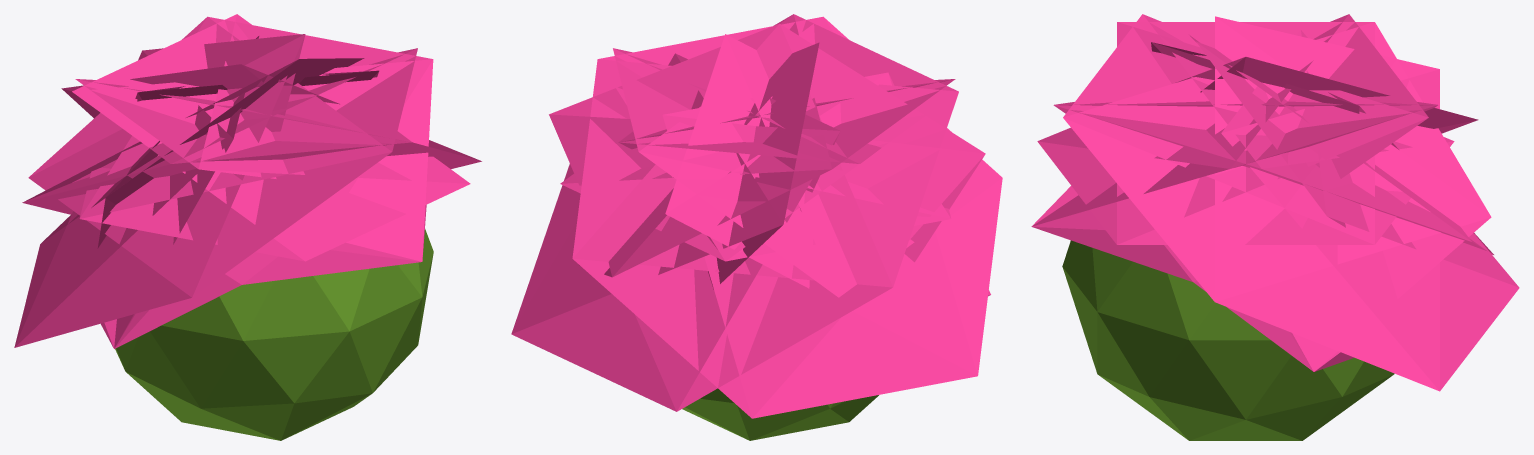
File: cactusflower.fbx
The picture shows the model from 3 angles, left to right: view 1: azimuth 30°, elevation 25°; view 2: azimuth 150°, elevation 25°; view 3: azimuth 270°, elevation 25°; orthographic projection. The views are drawn at different scales.
Parts seen in each view (by area): view 1: Icosphere; view 2: Icosphere; view 3: Icosphere.
Boxes of the visible parts, x1,y1,x2,y2 form: Icosphere: (14,14,481,440); Icosphere: (511,14,1002,440); Icosphere: (1031,14,1519,440).
Bounding box in the file's own units: 142 × 120 × 133.
